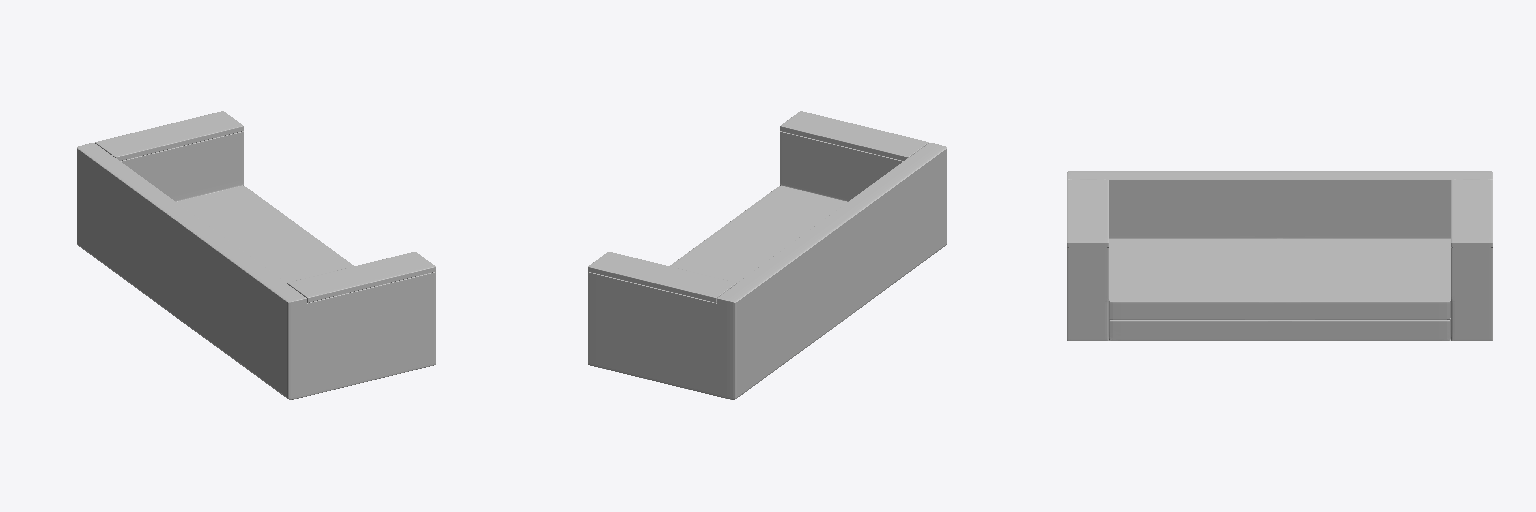
The model's file is sofa-base.obj.
The picture shows the model from 3 angles: view 1: azimuth 30°, elevation 25°; view 2: azimuth 150°, elevation 25°; view 3: azimuth 270°, elevation 25°; orthographic projection.
Parts seen in each view (by area): view 1: Cube.001; view 2: Cube.001; view 3: Cube.001.
Boxes of the visible parts, x1,y1,x2,y2 form: Cube.001: [77, 111, 435, 399]; Cube.001: [588, 111, 946, 399]; Cube.001: [1067, 171, 1492, 340].
Size of the model in its own units: 74.73 by 47.74 by 187.